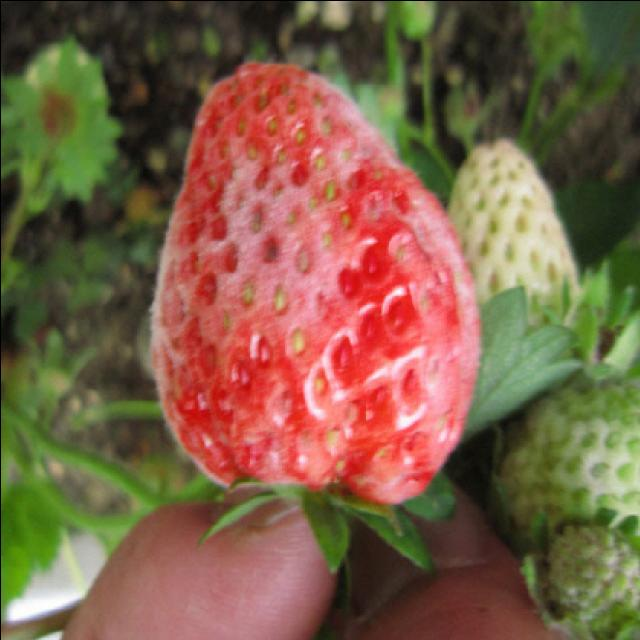Powdery Mildew Fruit: (148, 61, 481, 510)
